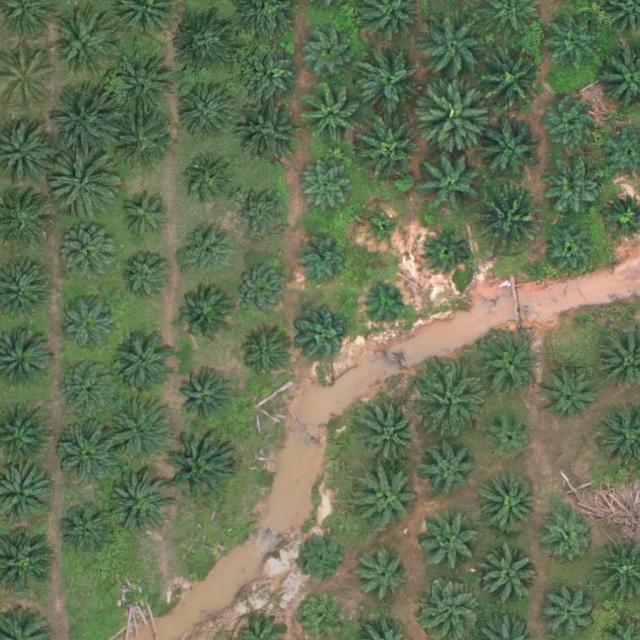Healthy: (50, 148, 120, 219), (50, 91, 120, 162), (357, 45, 427, 116), (356, 109, 426, 180), (424, 80, 494, 151), (423, 15, 493, 86), (477, 181, 547, 252), (415, 368, 485, 439), (174, 7, 244, 77), (421, 149, 491, 219), (479, 43, 549, 113), (164, 433, 234, 503), (103, 394, 173, 464), (115, 53, 178, 116), (114, 111, 177, 174), (175, 80, 238, 143), (480, 335, 543, 398), (420, 509, 483, 572), (350, 544, 413, 607), (239, 97, 302, 159), (301, 83, 363, 146), (479, 120, 541, 183), (540, 162, 602, 225), (360, 403, 423, 465), (355, 469, 417, 532), (107, 471, 169, 534), (60, 419, 122, 482), (60, 293, 122, 355), (54, 15, 116, 77), (114, 333, 176, 395), (478, 473, 540, 535), (478, 544, 540, 606), (238, 329, 293, 384), (235, 262, 290, 317), (235, 186, 290, 241), (183, 159, 238, 214), (117, 250, 172, 305), (179, 224, 234, 279), (64, 231, 119, 286), (305, 25, 360, 80), (300, 163, 355, 218), (298, 312, 353, 367), (544, 97, 599, 152), (545, 224, 600, 279), (544, 369, 599, 424), (295, 531, 350, 586), (63, 360, 118, 415), (60, 501, 115, 556), (115, 192, 169, 247), (177, 286, 231, 341), (243, 51, 297, 106), (297, 229, 351, 284), (547, 19, 601, 74), (542, 584, 596, 639), (540, 508, 594, 563), (421, 445, 475, 500), (180, 372, 234, 427)
Small: (422, 229, 469, 277), (363, 281, 410, 328), (486, 413, 533, 460), (363, 212, 403, 251)
